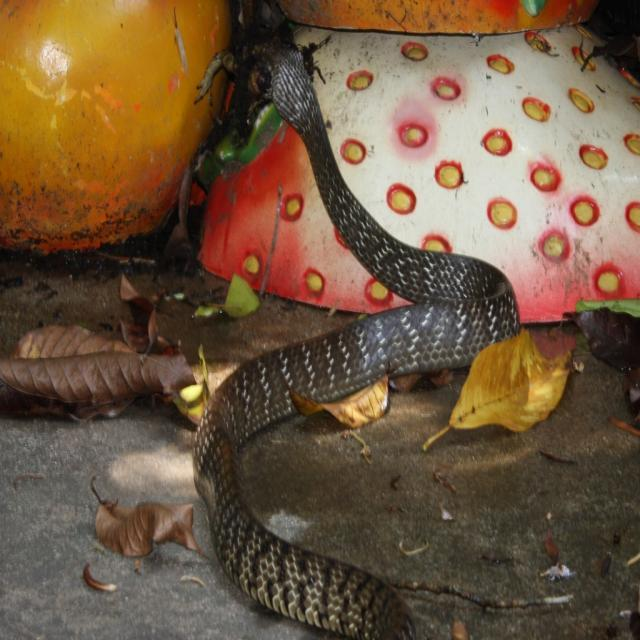Snake: (187, 2, 522, 638)
